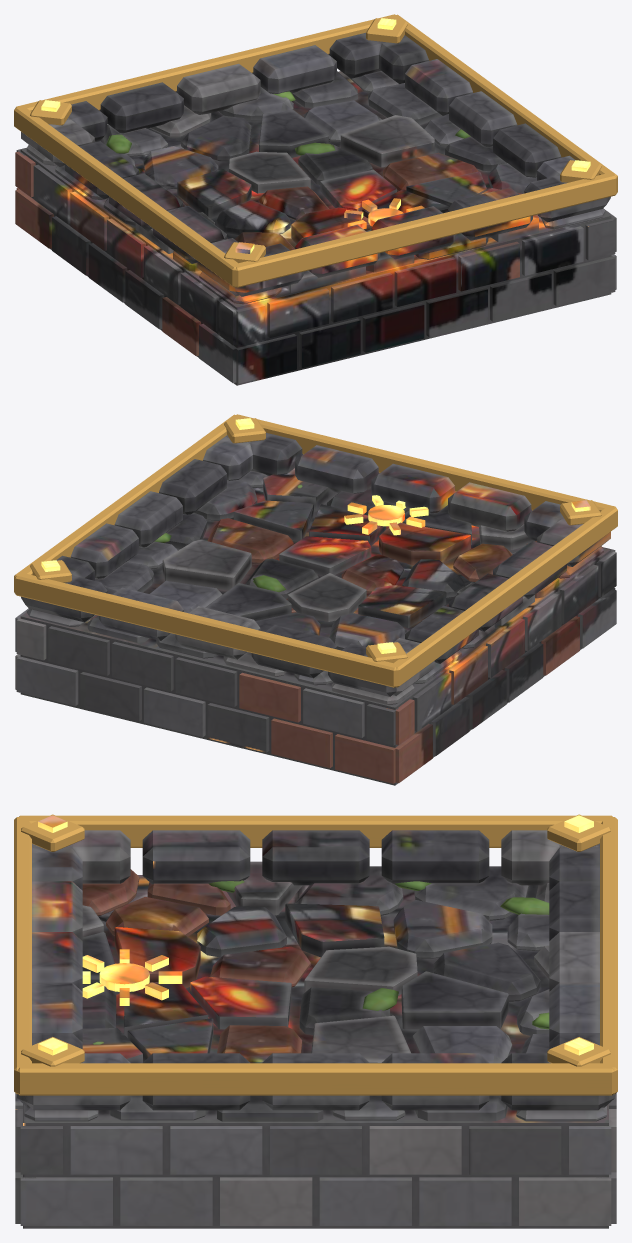
Rendered from cinder_plate.glb.
3 views of the same model, one above another, from view 1: azimuth 30°, elevation 25°; view 2: azimuth 150°, elevation 25°; view 3: azimuth 270°, elevation 25° (orthographic). The views are drawn at different scales.
Visible parts, largest first — view 1: cinder_plate; view 2: cinder_plate; view 3: cinder_plate.
Boxes of the visible parts, bbox=[...] form: cinder_plate: bbox=[14, 14, 617, 385]; cinder_plate: bbox=[14, 414, 617, 785]; cinder_plate: bbox=[14, 814, 617, 1228].
Size of the model in its own units: 2.02 by 0.635 by 2.02.
2 materials, 1 textured.
